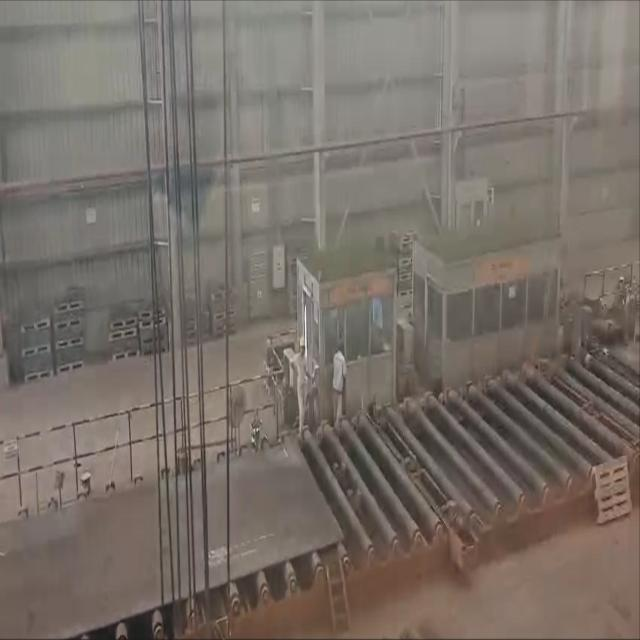warningzone: (298, 347, 636, 558)
